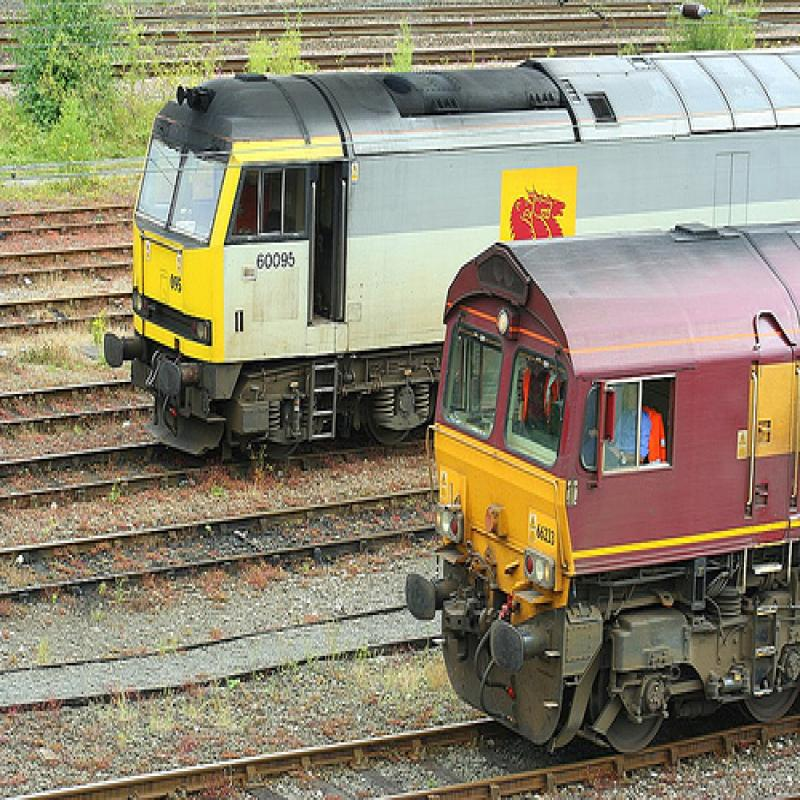train: (103, 47, 798, 465), (406, 218, 799, 756)
